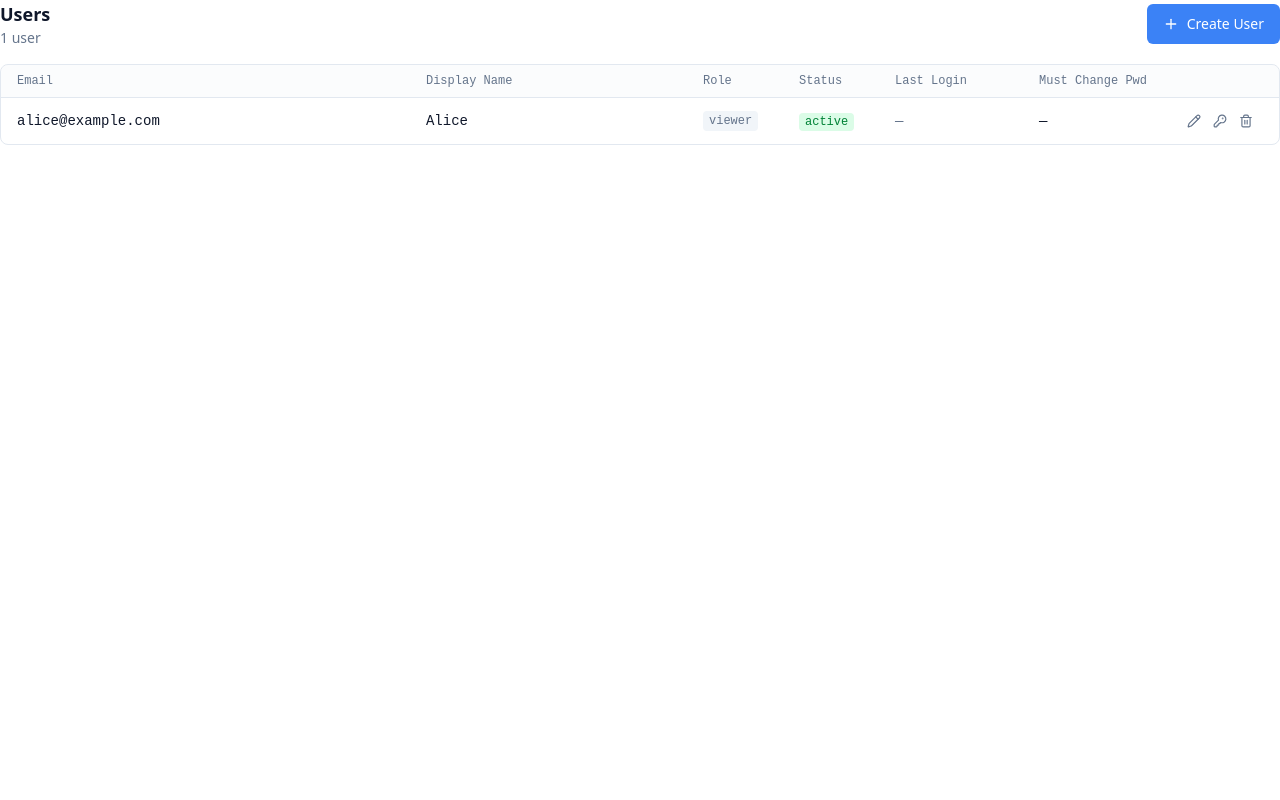
UsersSection › clicking Edit button opens the edit dialog for that user
Click the button titled "Edit". click: (1194, 121)
box: x1=1183 y1=110 x2=1205 y2=132
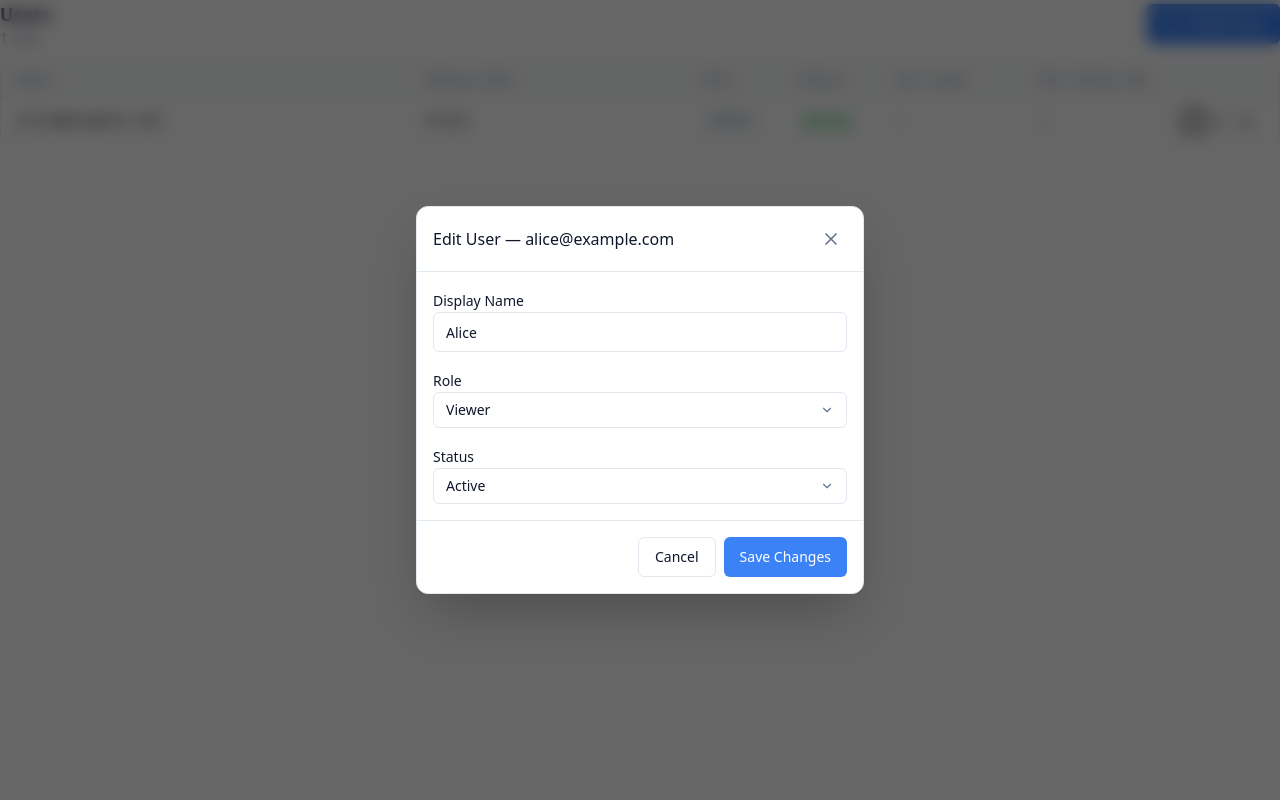
Now the text "Edit User — alice@example.com" is shown, box x1=433 y1=228 x2=674 y2=250
